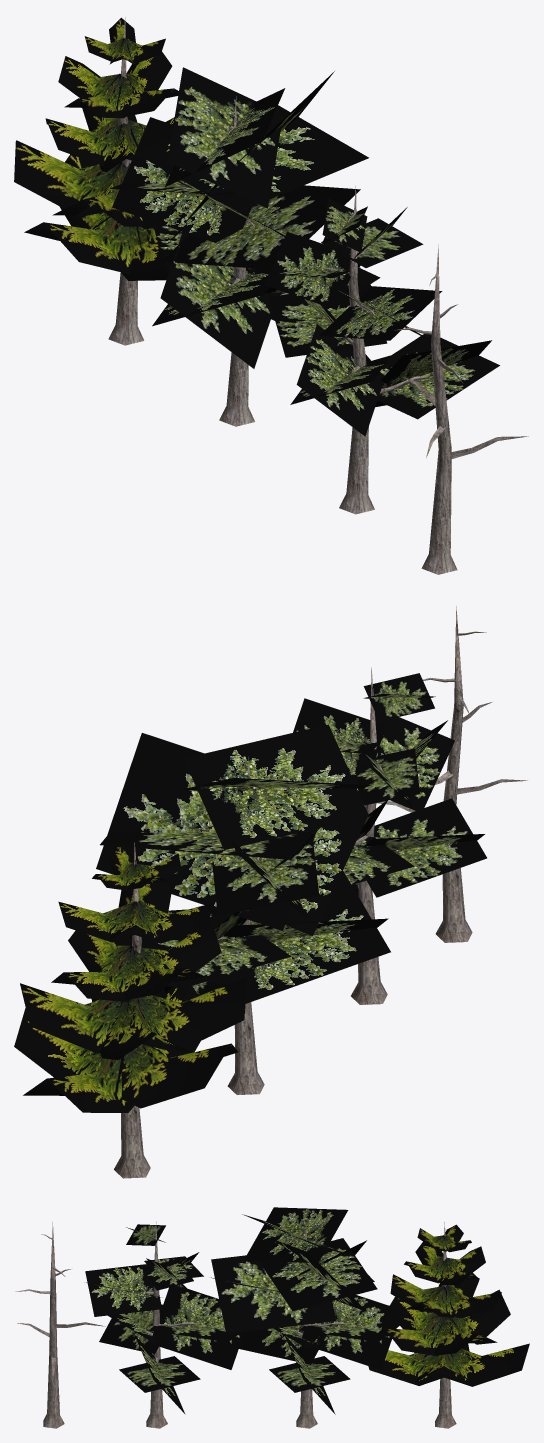
The model's file is arboles-low-poy.glb.
3 renders of one model, top to bottom at view 1: azimuth 30°, elevation 25°; view 2: azimuth 150°, elevation 25°; view 3: azimuth 270°, elevation 25°, orthographic. The views are drawn at different scales.
Parts seen in each view (by area): view 1: Arbol3, Arbol, Arbol4, Arbol1; view 2: Arbol3, Arbol4, Arbol, Arbol1; view 3: Arbol3, Arbol4, Arbol, Arbol1.
Part boxes in pixels (x1=…): Arbol3: x1=110, y1=67, x2=380, y2=426; Arbol: x1=263, y1=185, x2=499, y2=514; Arbol4: x1=14, y1=17, x2=178, y2=345; Arbol1: x1=394, y1=244, x2=528, y2=574; Arbol3: x1=96, y1=724, x2=390, y2=1094; Arbol4: x1=14, y1=842, x2=247, y2=1178; Arbol: x1=293, y1=667, x2=486, y2=1004; Arbol1: x1=376, y1=606, x2=527, y2=942; Arbol3: x1=211, y1=1207, x2=402, y2=1428; Arbol4: x1=367, y1=1222, x2=529, y2=1428; Arbol: x1=85, y1=1221, x2=244, y2=1428; Arbol1: x1=15, y1=1222, x2=105, y2=1428.
Size of the model in its own units: 43.74 by 56.11 by 126.
3 materials, 3 textured.
